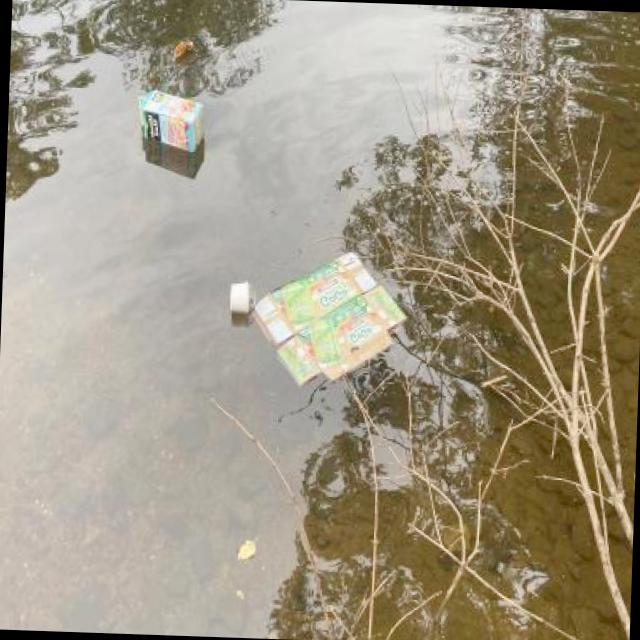Cardboard: (240, 230, 413, 398), (133, 84, 210, 153)
Paper: (220, 274, 252, 318)
Plastic: (243, 277, 259, 316)
